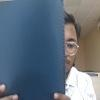notebook: (0, 0, 66, 99)
